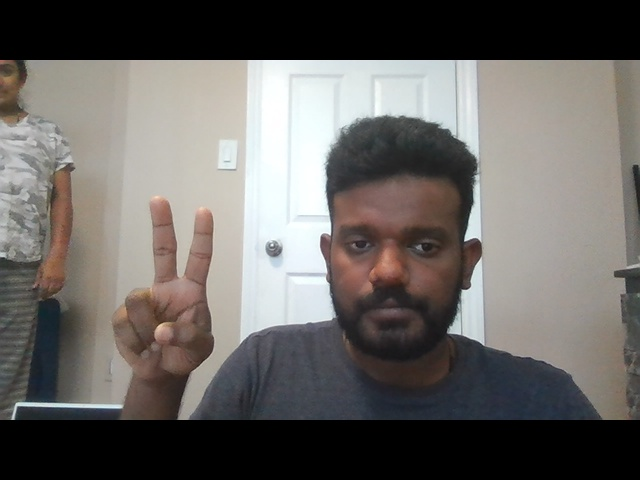peace: (110, 192, 219, 381)
